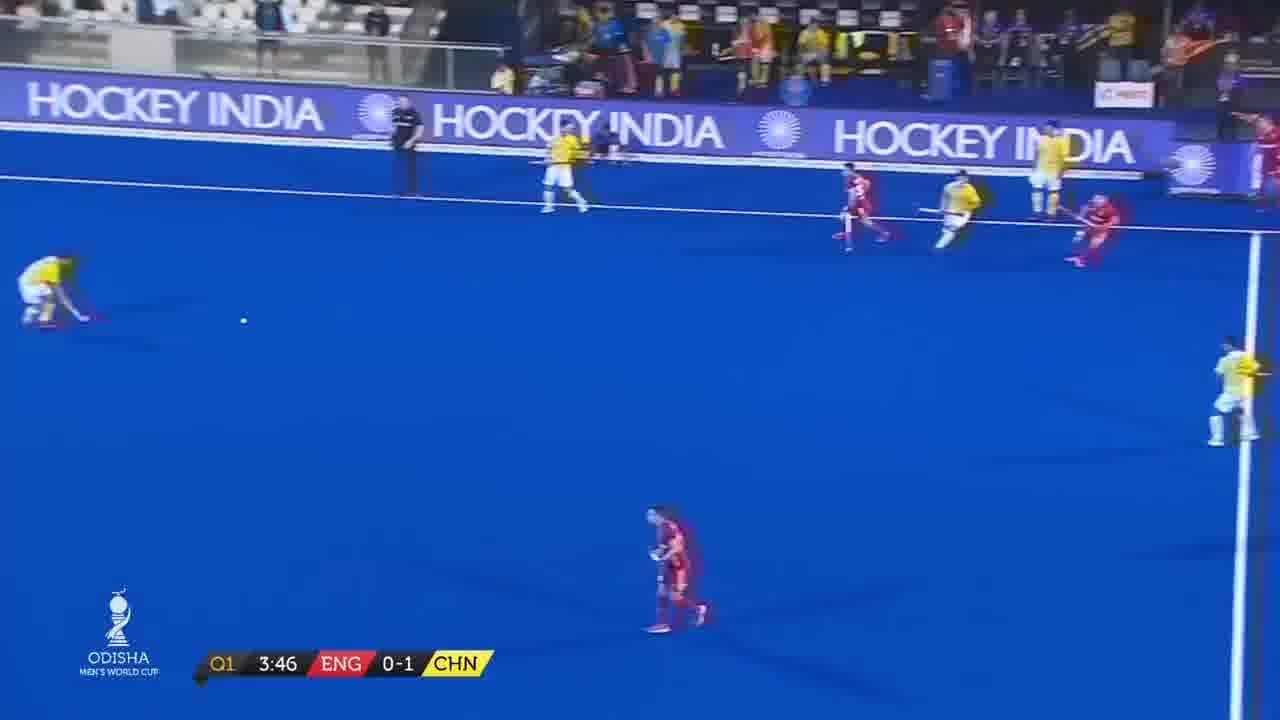ball: (240, 310, 248, 330)
